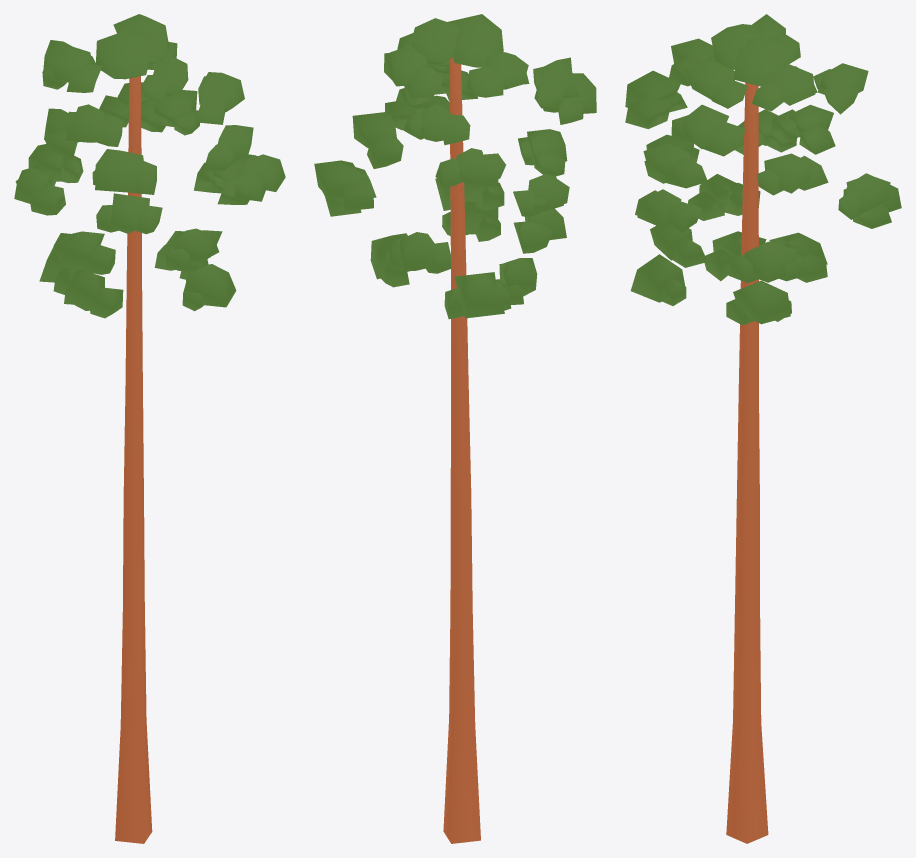
File: Blender_RedPine_1_Far.glb
3 views of the same model, side by side, from view 1: azimuth 30°, elevation 25°; view 2: azimuth 150°, elevation 25°; view 3: azimuth 270°, elevation 25° (orthographic).
Visible parts, largest first — view 1: Blender_RedPine_1_Far; view 2: Blender_RedPine_1_Far; view 3: Blender_RedPine_1_Far.
Boxes of the visible parts, x1,y1,x2,y2 form: Blender_RedPine_1_Far: [14, 14, 285, 843]; Blender_RedPine_1_Far: [314, 14, 596, 843]; Blender_RedPine_1_Far: [625, 14, 901, 843].
Bounding box in the file's own units: 8 × 25.48 × 7.92.
